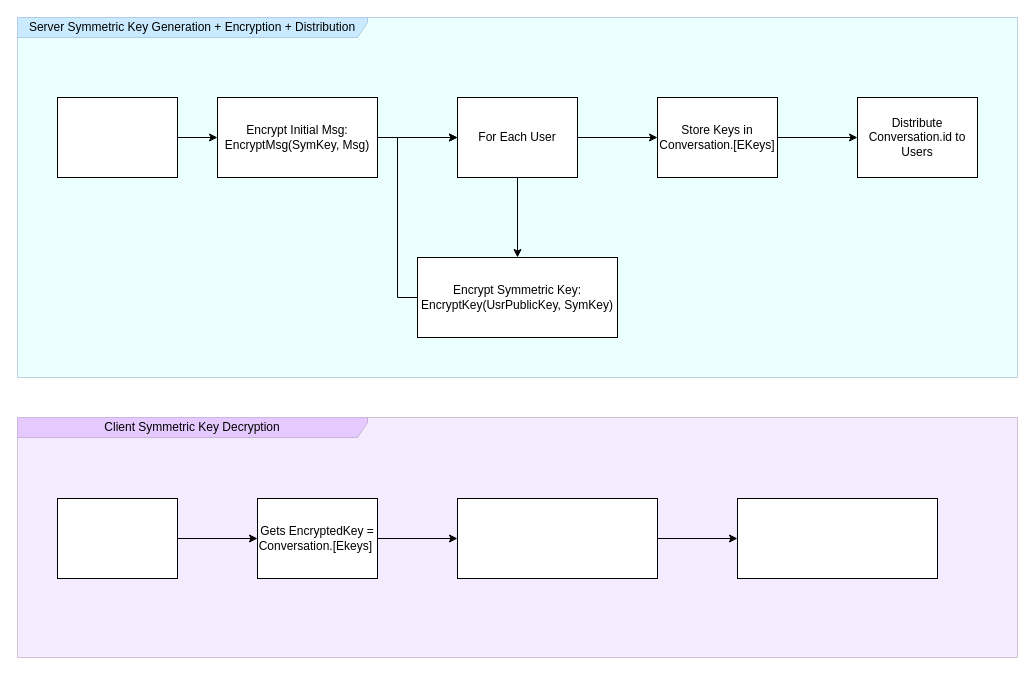
Image size: 1035x675. Some labels were removed from this diagram. Each missing label, with the box of its shape:
Decrypt Messages: DecryptMsg(SymKey, Msg): (736, 498, 938, 578)
SymKey = DecryptKey(UsrPrivateKey, Ekey): (456, 498, 658, 578)
SymKey = GenSymmetricKey(): (56, 96, 178, 178)
User Receives Chat Invite (Conversation Object): (56, 498, 178, 578)
